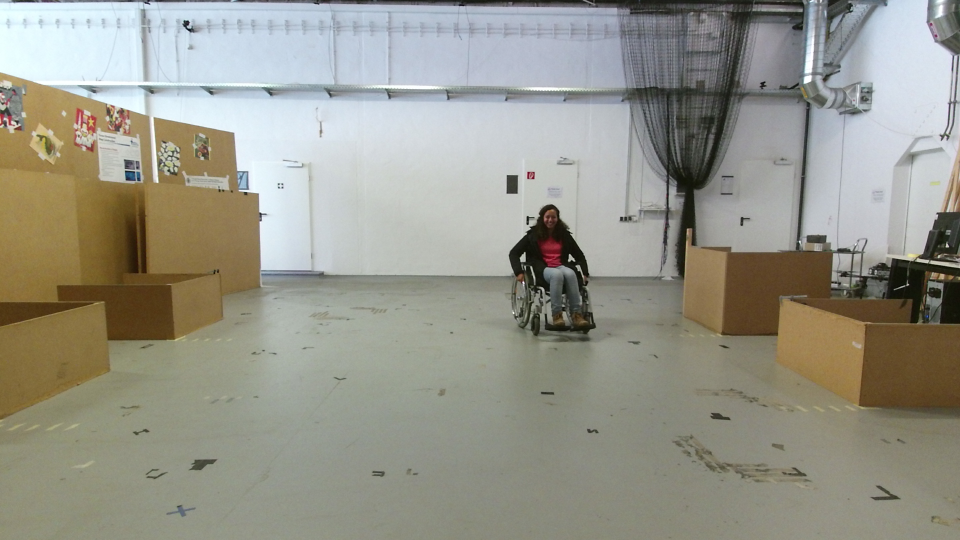wheelchair: (503, 201, 594, 341)
